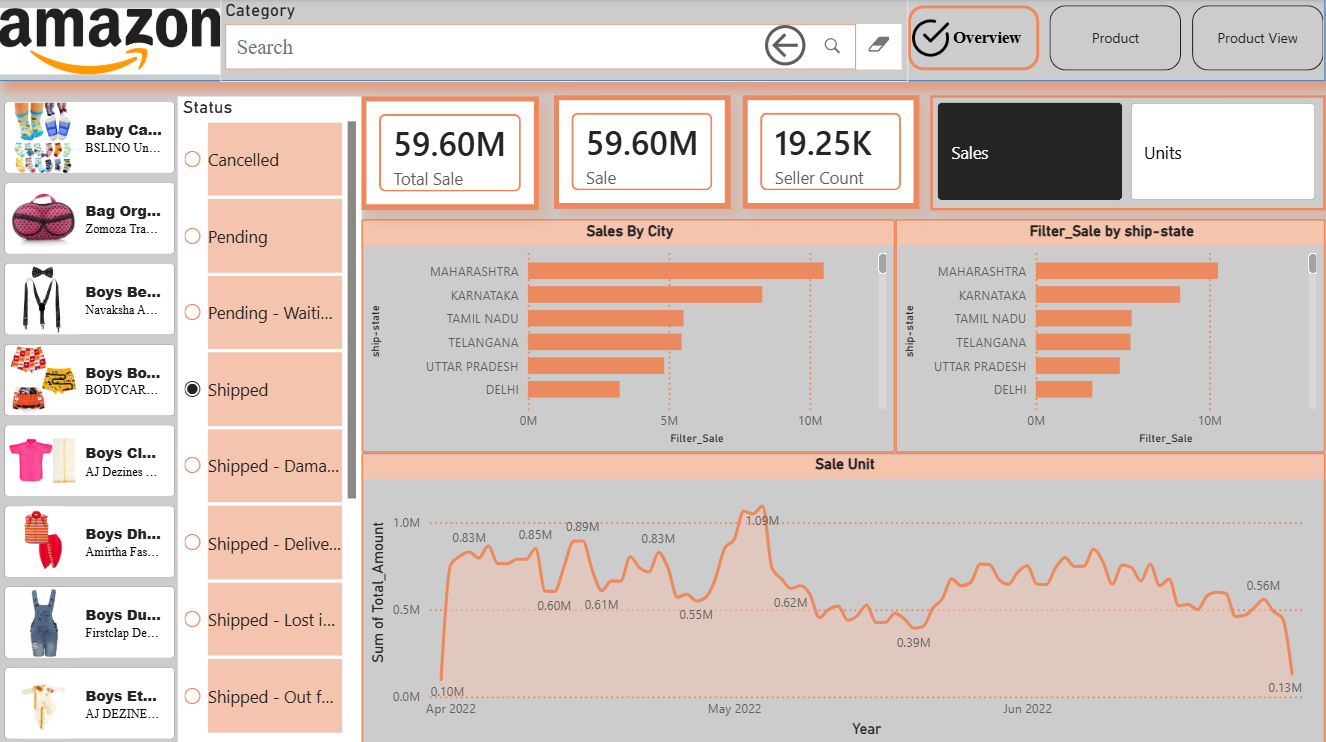

The dashboard page shown, as its layout file describes it:
{"tool":"powerbi","page":{"name":"Overview","canvas":[1280,720],"ordinal":0},"visuals":[{"type":"advancedSlicerVisual","fields":{"Values":["amazon-fashion - YT.Category"]},"box":[0,94.1,188.2,626.1],"z":0},{"type":"shape","box":[0,0,1280.3,79.5],"z":1000},{"type":"pageNavigator","box":[876.8,6.1,403.5,63.6],"z":2000},{"type":"image","box":[0,2.4,213.5,77.2],"z":3000},{"type":"image","box":[876.8,13.5,44,48.9],"z":4000},{"type":"textFilter25A4896A83E0487089E2B90C9AE57C8A","fields":{"field":["amazon-fashion - YT.Category"]},"box":[214,0,662.8,79.5],"z":5000},{"type":"listSlicer","fields":{"Values":["Amazon.Status"]},"box":[172.5,94.1,177.3,626.1],"z":6000},{"type":"cardVisual","fields":{"Data":["Amazon.Filter_Sale"]},"box":[535.7,92.9,170.1,109.8],"z":7000},{"type":"advancedSlicerVisual","fields":{"Values":["Sale_Option.Name"]},"box":[898.8,92.9,381.2,111],"z":8000},{"type":"actionButton","box":[733.5,19.3,56.7,50.7],"z":9000},{"type":"clusteredBarChart","title":"Sales By City","fields":{"Y":["Amazon.Filter_Sale"],"Category":["Amazon.ship-state"]},"box":[349.9,212.3,515.2,225.6],"z":10000},{"type":"clusteredBarChart","fields":{"Category":["Amazon.ship-state"],"Y":["Amazon.Filter_Sale"]},"box":[865,212.3,415,225.6],"z":11000},{"type":"areaChart","title":"Sale Unit ","fields":{"Y":["Sum(Amazon.Total_Amount)"],"Category":["Amazon.Date.Variation.Date Hierarchy.Year","Amazon.Date.Variation.Date Hierarchy.Quarter","Amazon.Date.Variation.Date Hierarchy.Month","Amazon.Date.Variation.Date Hierarchy.Day"]},"box":[349.9,437.9,930.2,282.3],"z":12000},{"type":"cardVisual","fields":{"Data":["Amazon.All_Overall_Sale"]},"box":[349.9,94.1,171.3,109.8],"z":13000},{"type":"cardVisual","fields":{"Data":["Amazon.Seller_Count"]},"box":[717.8,92.9,170.1,109.8],"z":14000}]}

Visuals, with their boxes in screenshot pixels (x1, y1, x2, y2), scaled from the page's 1280x720 canvas onto the 1326x742 screenshot:
advancedSlicerVisual - amazon-fashion - YT.Category: Rect(0, 97, 195, 741)
shape: Rect(0, 0, 1325, 82)
pageNavigator: Rect(908, 6, 1325, 72)
image: Rect(0, 2, 221, 82)
image: Rect(908, 14, 954, 64)
textFilter25A4896A83E0487089E2B90C9AE57C8A - amazon-fashion - YT.Category: Rect(222, 0, 908, 82)
listSlicer - Amazon.Status: Rect(179, 97, 362, 741)
cardVisual - Amazon.Filter_Sale: Rect(555, 96, 731, 209)
advancedSlicerVisual - Sale_Option.Name: Rect(931, 96, 1325, 210)
actionButton: Rect(760, 20, 819, 72)
"Sales By City" clusteredBarChart: Rect(362, 219, 896, 451)
clusteredBarChart - Amazon.ship-state x Amazon.Filter_Sale: Rect(896, 219, 1325, 451)
"Sale Unit " areaChart: Rect(362, 451, 1325, 741)
cardVisual - Amazon.All_Overall_Sale: Rect(362, 97, 540, 210)
cardVisual - Amazon.Seller_Count: Rect(744, 96, 920, 209)
